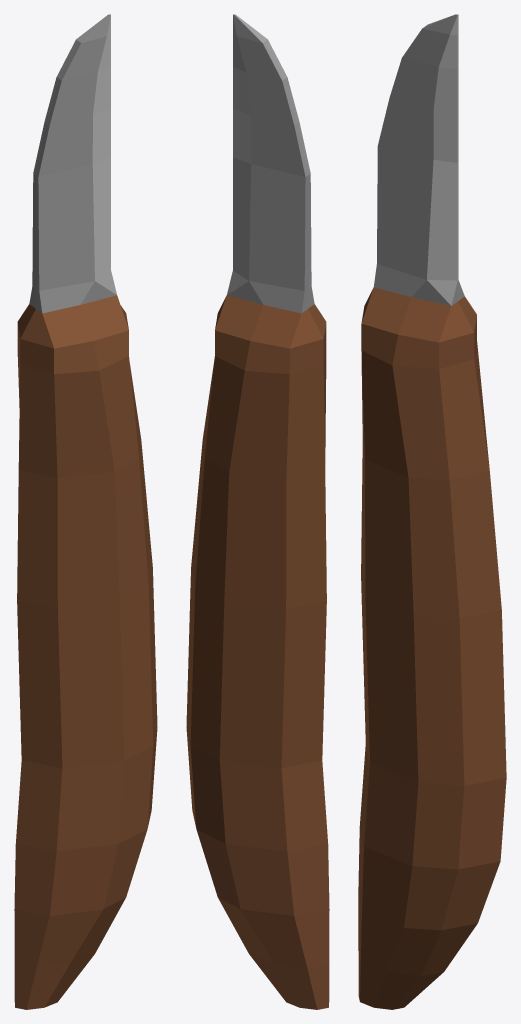
File: knife02.obj
The picture shows the model from 3 angles, left to right: view 1: azimuth 30°, elevation 25°; view 2: azimuth 150°, elevation 25°; view 3: azimuth 330°, elevation 25°; orthographic projection. The views are drawn at different scales.
Visible parts, largest first — view 1: Cylinder.001; view 2: Cylinder.001; view 3: Cylinder.001.
Part boxes in pixels (<box>): Cylinder.001: <box>14,14,157,1009</box>; Cylinder.001: <box>186,14,329,1009</box>; Cylinder.001: <box>358,14,506,1009</box>.
Bounding box in the file's own units: 0.0204 × 0.1321 × 0.0128.
1 material, 1 textured.
